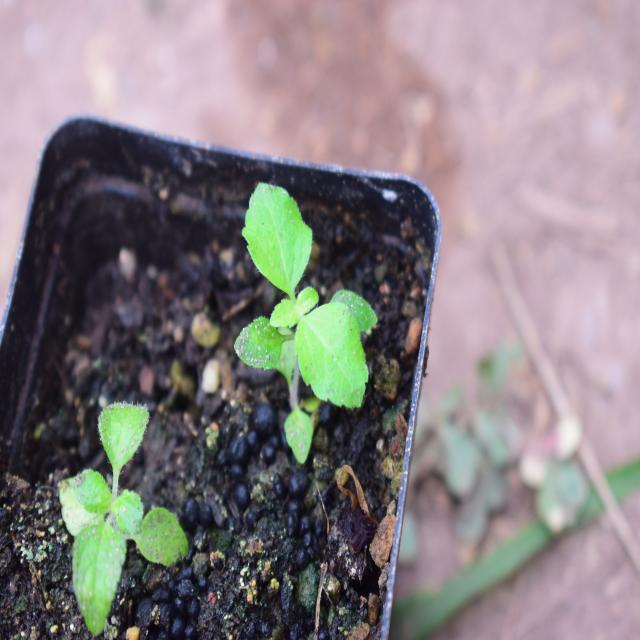billygoat_weed: (230, 182, 376, 456), (32, 359, 175, 635)
